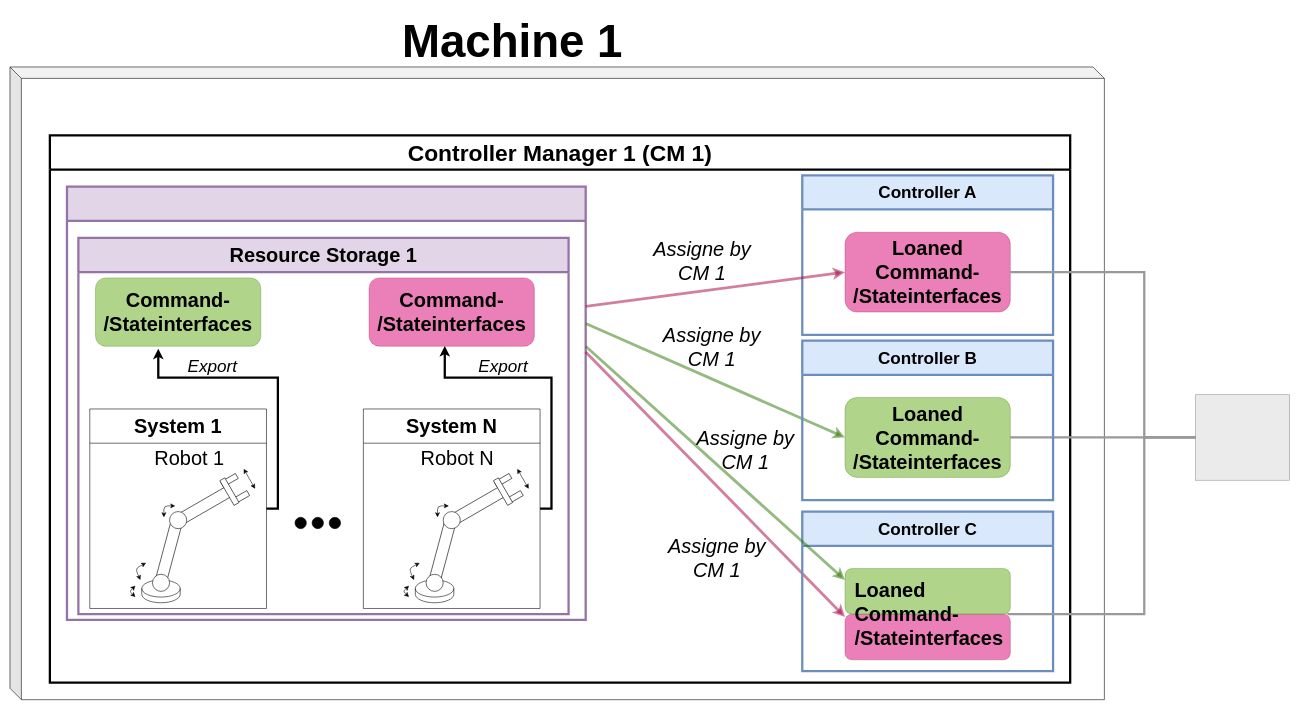
Image size: 1300x710. Some labels were removed from this diagram. Each missing label, with the centre of its shape:
Created by RM 1: point 1242,437
Resource Manager 1 (RM 1): point 326,403
